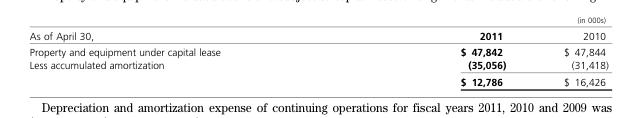table: (28, 29, 607, 86)
table column: (28, 29, 339, 86), (339, 29, 534, 86), (534, 29, 607, 86)
table column header: (28, 29, 607, 43)
table row: (28, 57, 607, 72), (28, 29, 607, 43), (28, 43, 607, 57), (28, 72, 607, 86)
